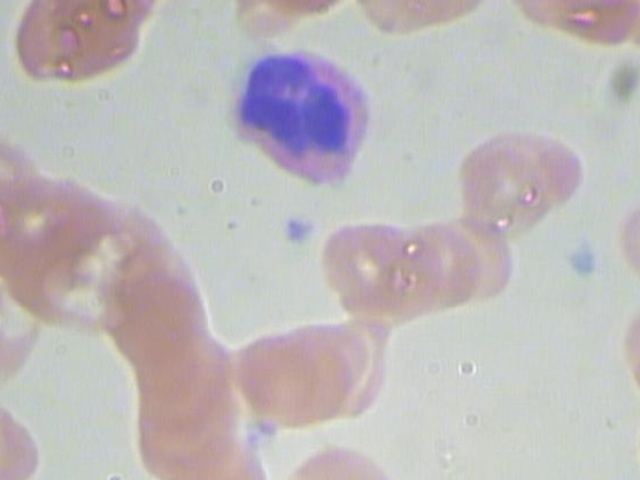Platelets: (566, 243, 603, 279), (279, 213, 315, 249)
RBC: (448, 129, 586, 239), (4, 0, 143, 96), (316, 207, 423, 320), (104, 263, 215, 364), (232, 322, 330, 422), (396, 221, 489, 310), (267, 434, 428, 480), (171, 435, 273, 480), (603, 290, 640, 392), (612, 181, 640, 291), (622, 394, 640, 480)
WBC: (219, 46, 384, 196)
